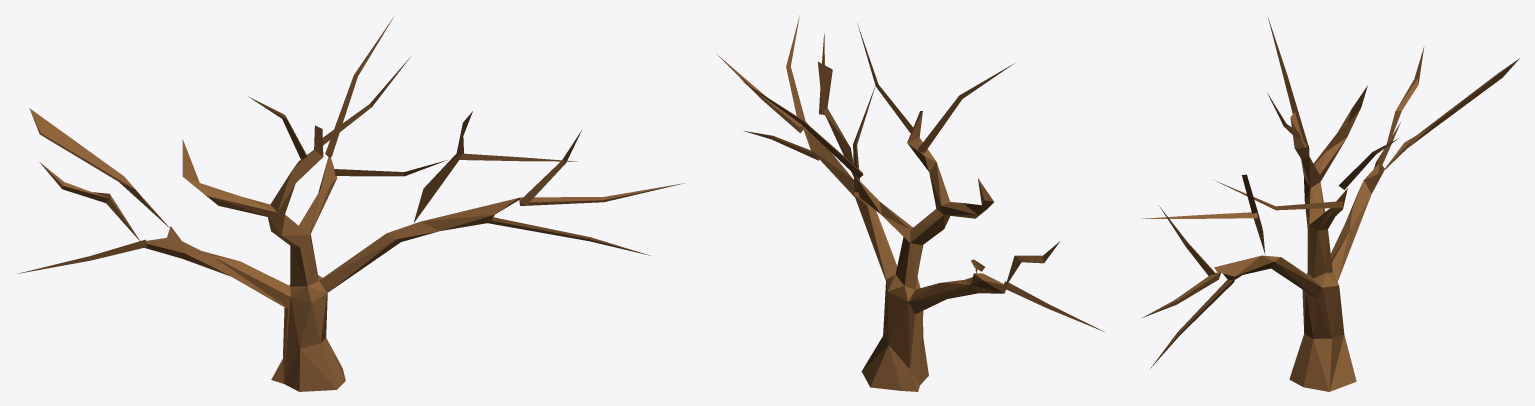
File: jacaranda_2_bare_far.glb
The picture shows the model from 3 angles, left to right: view 1: azimuth 30°, elevation 25°; view 2: azimuth 150°, elevation 25°; view 3: azimuth 270°, elevation 25°; orthographic projection. The views are drawn at different scales.
Visible parts, largest first — view 1: jacaranda_2_bare_far; view 2: jacaranda_2_bare_far; view 3: jacaranda_2_bare_far.
Part boxes in pixels (x1,y1,x2,y2): jacaranda_2_bare_far: (17,17,685,391); jacaranda_2_bare_far: (717,15,1105,391); jacaranda_2_bare_far: (1141,16,1519,391).
Size of the model in its own units: 9.78 by 5.71 by 6.23.
